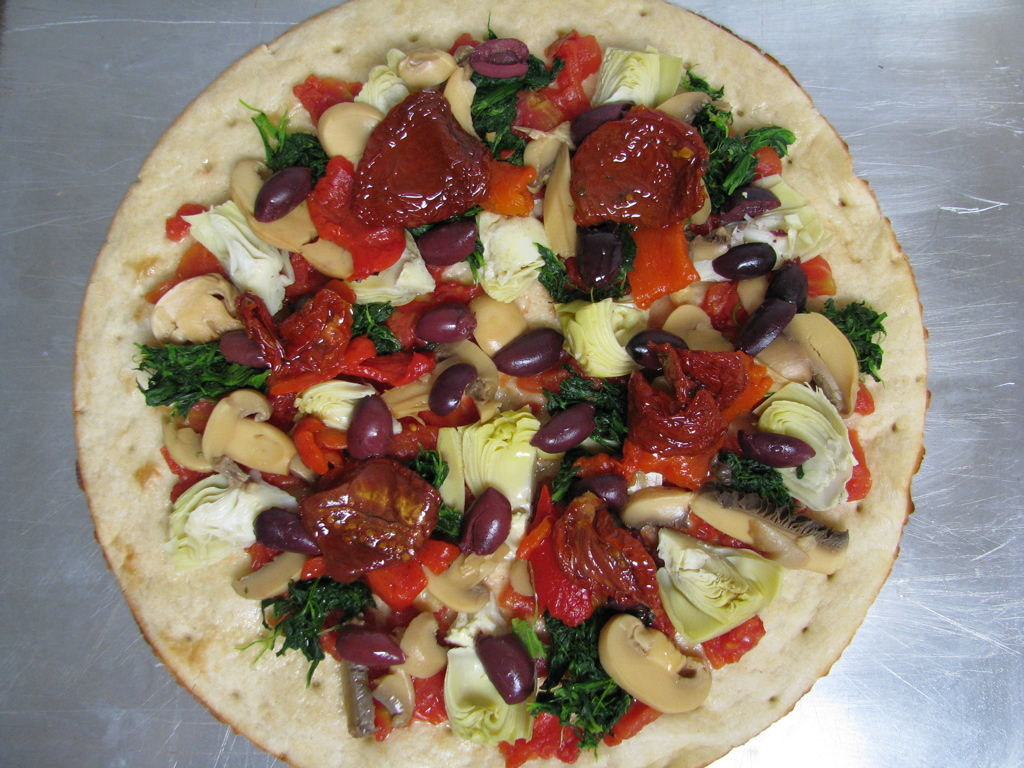taco: (75, 0, 931, 767)
